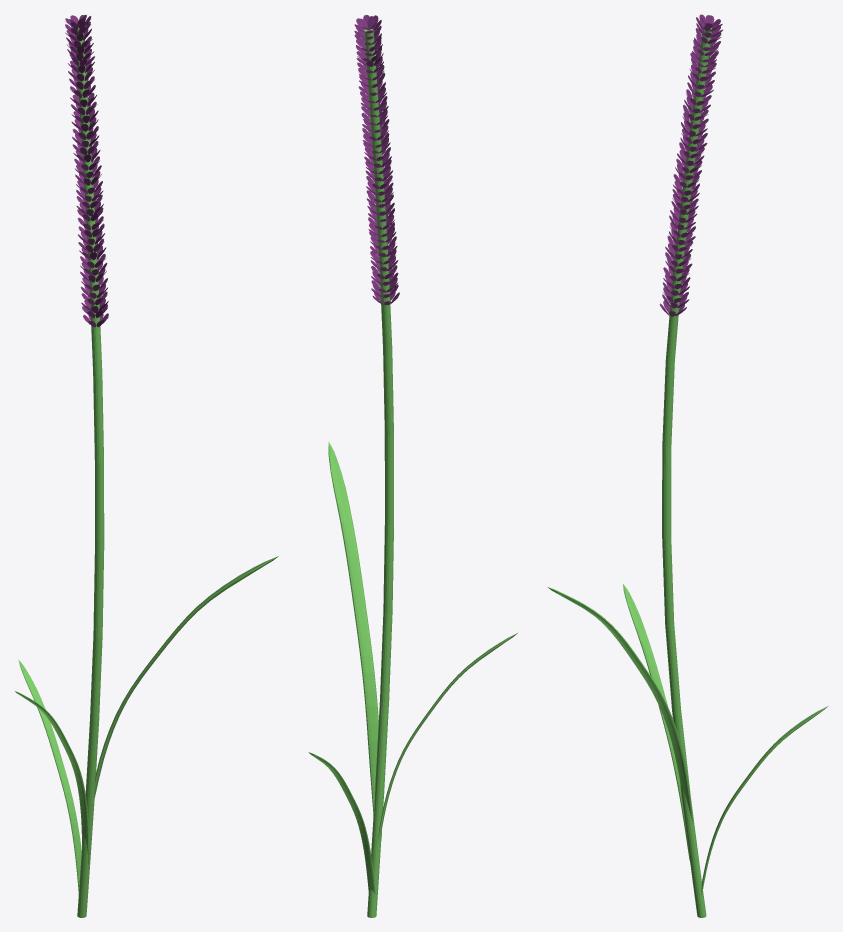
The model's file is Lavanda_Inteira.fbx.
3 renders of one model, left to right at view 1: azimuth 30°, elevation 25°; view 2: azimuth 150°, elevation 25°; view 3: azimuth 270°, elevation 25°, orthographic.
Parts seen in each view (by area): view 1: Cube.003; view 2: Cube.003; view 3: Cube.003.
Boxes of the visible parts, x1,y1,x2,y2 form: Cube.003: [15, 15, 278, 917]; Cube.003: [308, 15, 517, 917]; Cube.003: [547, 14, 828, 917].
Bounding box in the file's own units: 25 × 94.3 × 26.81.
2 materials, 1 textured.
